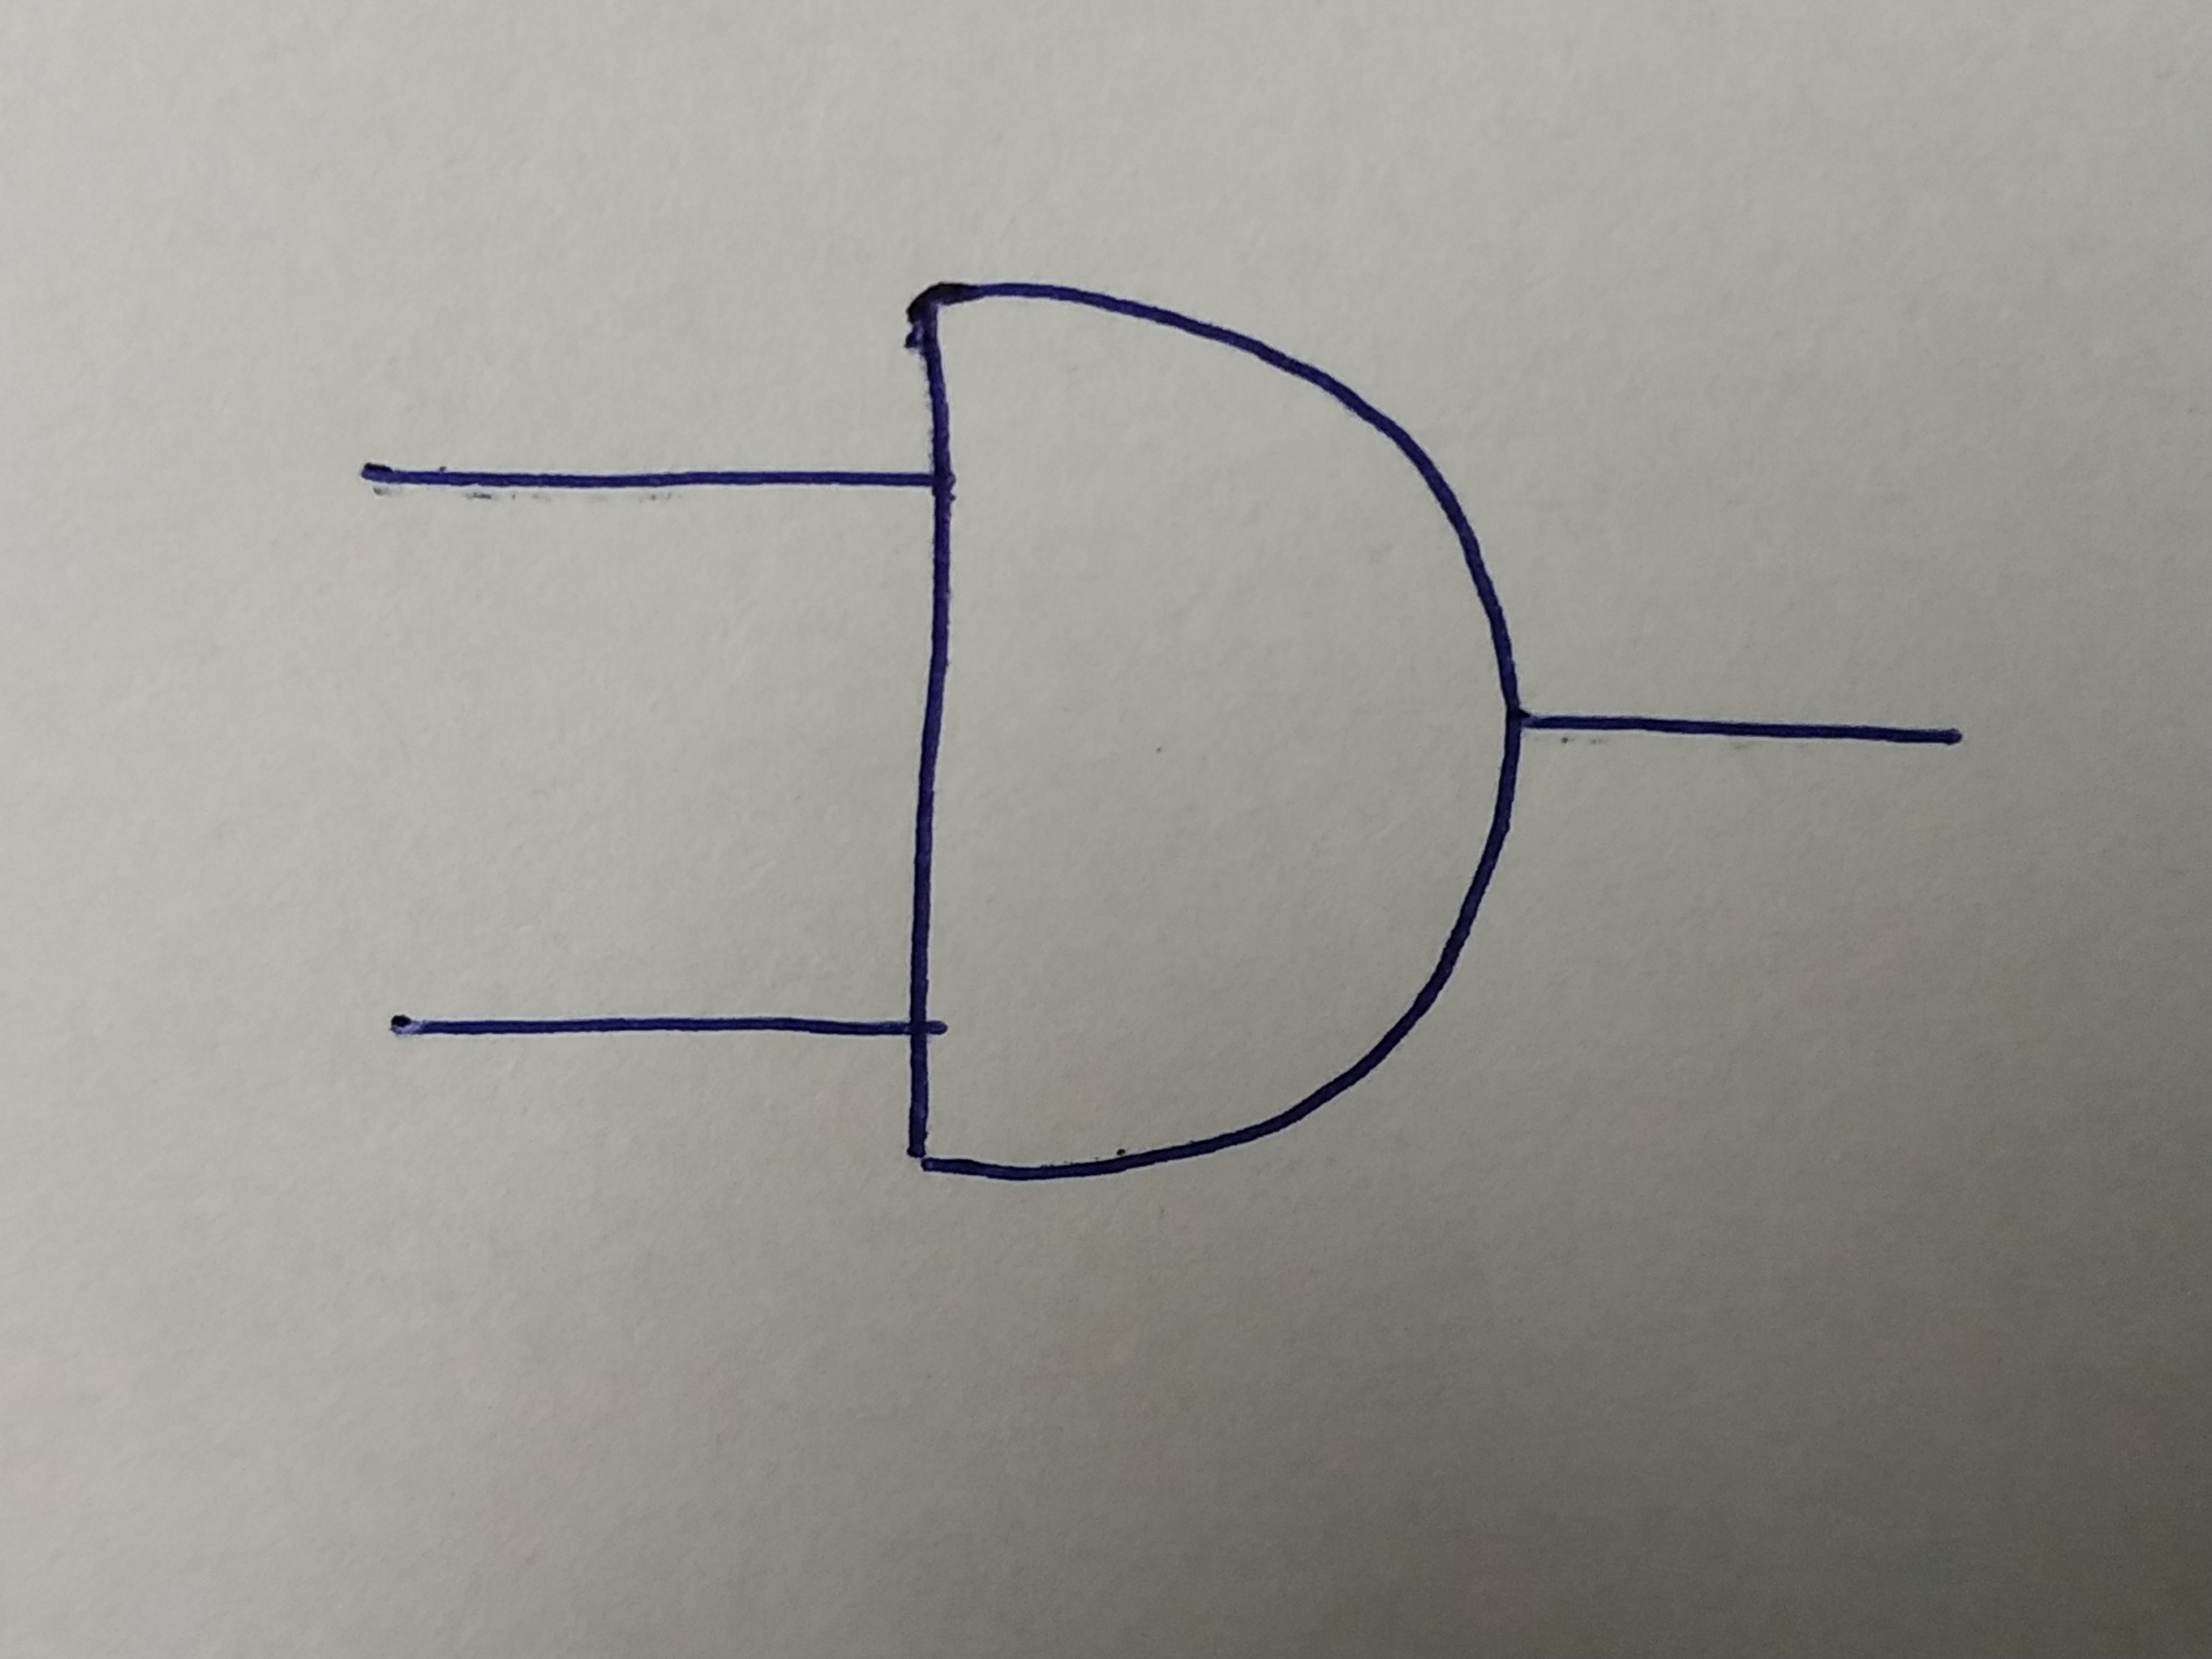and: (900, 286, 1522, 1168)
